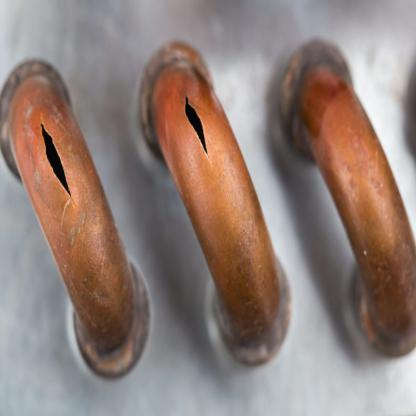burst: (165, 88, 232, 167), (33, 125, 91, 206)
